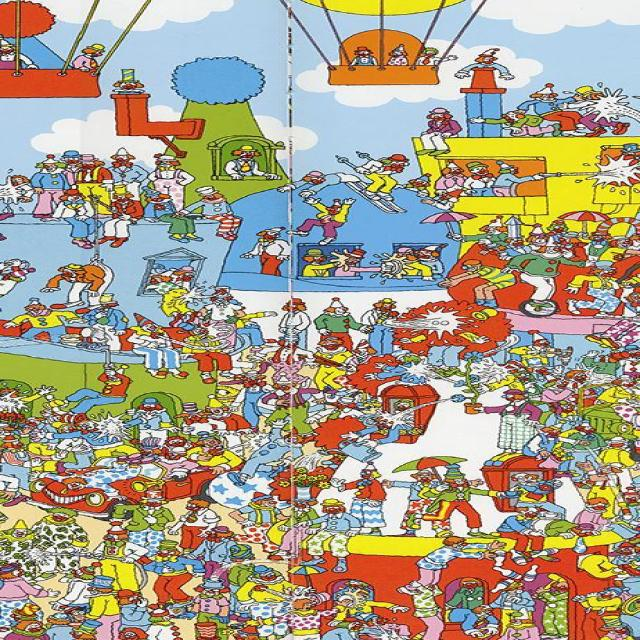waldo: (61, 605, 86, 620)
